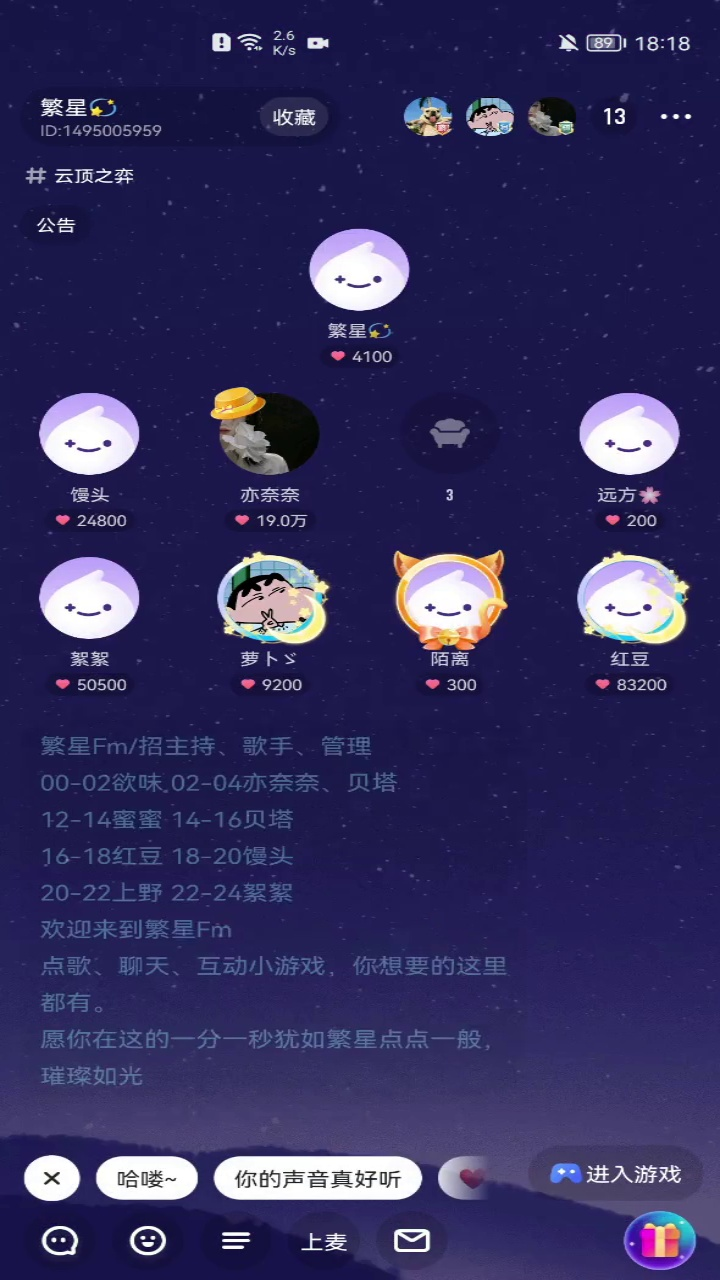avatar: (383, 544, 523, 653), (563, 542, 691, 648), (31, 545, 149, 645), (29, 388, 149, 481), (569, 384, 684, 480), (301, 221, 416, 316)
